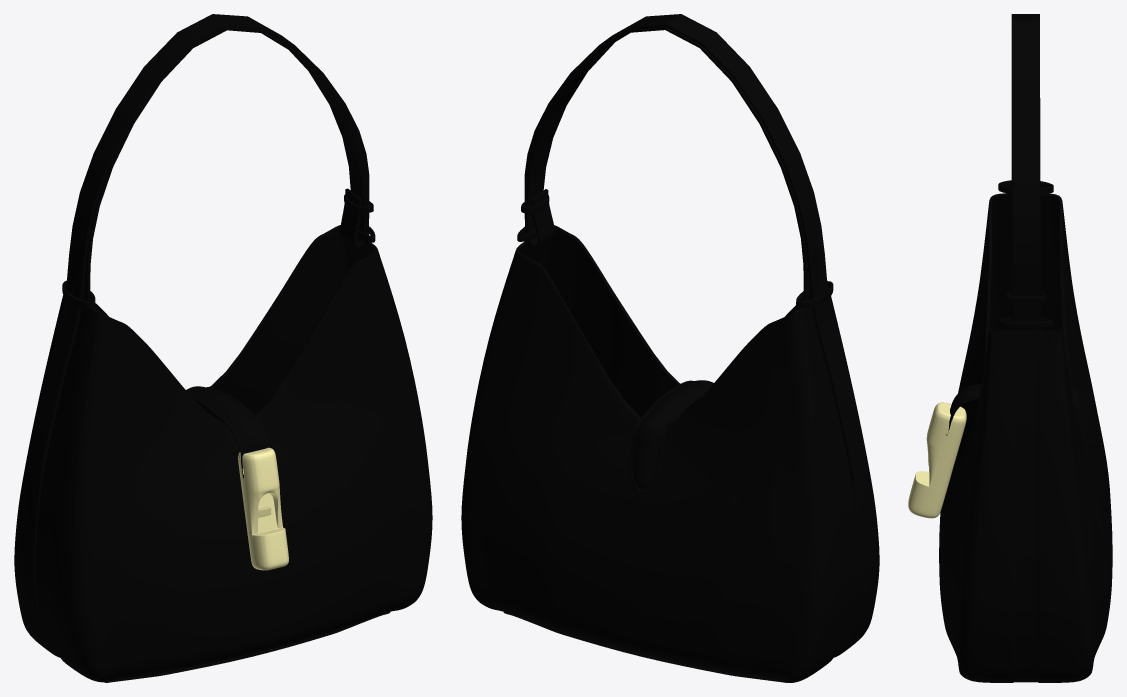
Rendered from model-mw1k5snu-bolso-3d.glb.
3 renders of one model, left to right at view 1: azimuth 30°, elevation 25°; view 2: azimuth 150°, elevation 25°; view 3: azimuth 270°, elevation 25°, orthographic. The views are drawn at different scales.
Visible parts, largest first — view 1: Cube.006; view 2: Cube.006; view 3: Cube.006.
Boxes of the visible parts, x1,y1,x2,y2 form: Cube.006: (14, 14, 432, 682); Cube.006: (461, 14, 879, 682); Cube.006: (908, 14, 1112, 682).
Size of the model in its own units: 0.1708 by 0.2671 by 0.0836.
Materials: 3 (2 with a texture image).
